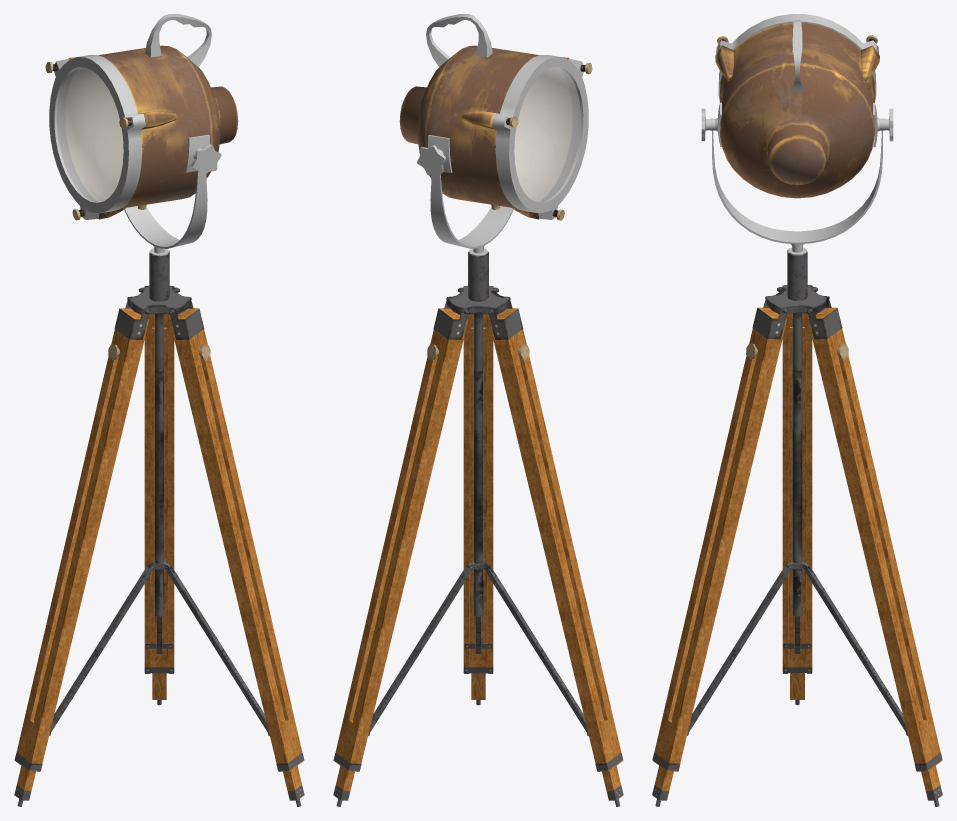
File: projector.glb
3 views of the same model, side by side, from view 1: azimuth 30°, elevation 25°; view 2: azimuth 150°, elevation 25°; view 3: azimuth 270°, elevation 25° (orthographic).
Visible parts, largest first — view 1: barrel_low, noga_low_projector_0, noga_low002_projector_0, glass_low_projector_0, frame_low, noga_low001_projector_0, shtativ_base_low_projector_0, noga_slider_low001_projector_0, duga_low_projector_0, rasporka_low_projector_0, rasporka_low002_projector_0, ruchka_low (+5 smaller); view 2: barrel_low, noga_low001_projector_0, noga_low_projector_0, glass_low_projector_0, frame_low, noga_low002_projector_0, shtativ_base_low_projector_0, noga_slider_low002_projector_0, duga_low_projector_0, rasporka_low001_projector_0, rasporka_low_projector_0, ruchka_low (+5 smaller); view 3: barrel_low, noga_low002_projector_0, noga_low001_projector_0, noga_low_projector_0, shtativ_base_low_projector_0, duga_low_projector_0, noga_slider_low_projector_0, frame_low, rasporka_low002_projector_0, rasporka_low001_projector_0, noga_binding_up_low001_projector_0, noga_binding_up_low002_projector_0 (+3 smaller).
Part boxes in pixels (box(x1,y1,x2,y2)): barrel_low: box(65, 45, 238, 219); noga_low_projector_0: box(14, 308, 149, 771); noga_low002_projector_0: box(169, 308, 304, 771); glass_low_projector_0: box(56, 67, 123, 202); frame_low: box(49, 55, 145, 219); noga_low001_projector_0: box(144, 314, 174, 673); shtativ_base_low_projector_0: box(128, 250, 190, 616); noga_slider_low001_projector_0: box(152, 327, 166, 705); duga_low_projector_0: box(124, 157, 207, 256); rasporka_low_projector_0: box(50, 564, 154, 732); rasporka_low002_projector_0: box(164, 564, 268, 732); ruchka_low: box(145, 14, 211, 67); barrel_low: box(399, 45, 572, 219); noga_low001_projector_0: box(333, 308, 468, 771); noga_low_projector_0: box(488, 308, 623, 771); glass_low_projector_0: box(514, 67, 580, 202); frame_low: box(492, 55, 588, 219); noga_low002_projector_0: box(463, 314, 493, 673); shtativ_base_low_projector_0: box(447, 251, 509, 616); noga_slider_low002_projector_0: box(471, 327, 485, 705); duga_low_projector_0: box(430, 150, 513, 256); rasporka_low001_projector_0: box(369, 564, 473, 732); rasporka_low_projector_0: box(483, 564, 587, 732); ruchka_low: box(426, 14, 492, 67); barrel_low: box(715, 23, 879, 198); noga_low002_projector_0: box(652, 307, 787, 771); noga_low001_projector_0: box(807, 307, 942, 771); noga_low_projector_0: box(782, 313, 812, 673); shtativ_base_low_projector_0: box(766, 250, 828, 616); duga_low_projector_0: box(709, 118, 885, 255); noga_slider_low_projector_0: box(790, 327, 804, 705); frame_low: box(716, 14, 878, 101); rasporka_low002_projector_0: box(688, 563, 792, 731); rasporka_low001_projector_0: box(802, 563, 906, 731); noga_binding_up_low001_projector_0: box(807, 296, 842, 339); noga_binding_up_low002_projector_0: box(752, 296, 787, 339).
Bounding box in the file's own units: 108 × 351 × 123.
Materials: 1 (1 with a texture image).
